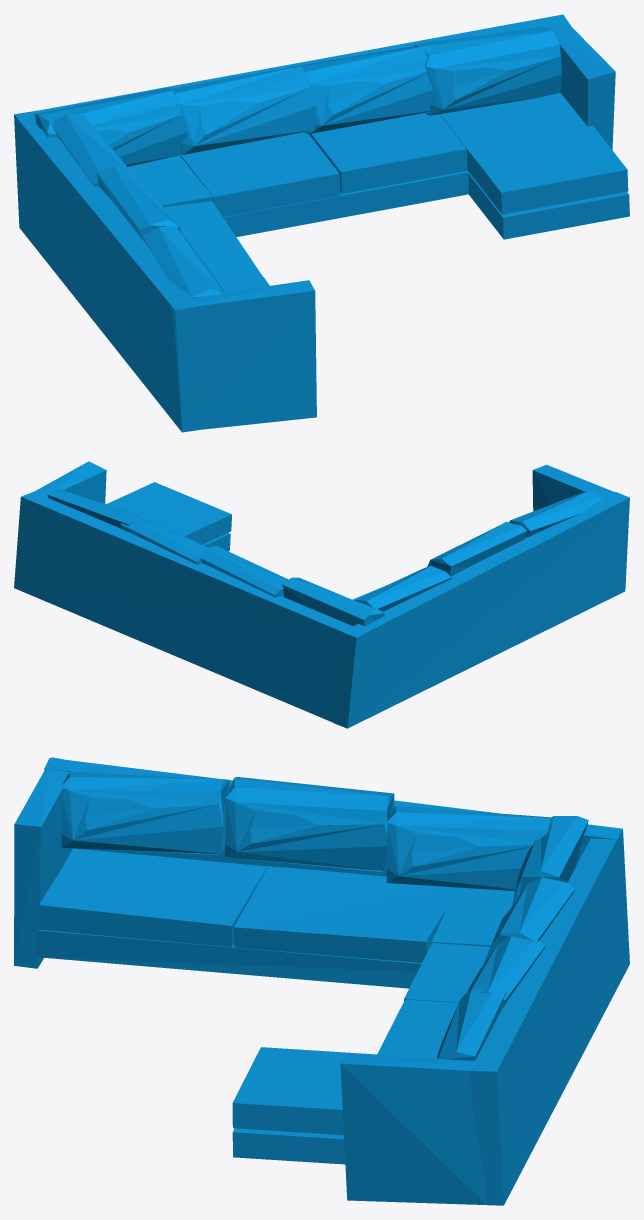
File: Sofa.fbx
The picture shows the model from 3 angles, top to bottom: view 1: azimuth 30°, elevation 25°; view 2: azimuth 150°, elevation 25°; view 3: azimuth 270°, elevation 25°; orthographic projection. The views are drawn at different scales.
Parts seen in each view (by area): view 1: mesh_48918404, mesh_1211063114, mesh_1097500883, mesh_975749564, mesh_1721942015, mesh_1421899832, mesh_1643965277, mesh_552221921, mesh_356552471, mesh_1620106774, mesh_757148259, mesh_780972100 (+6 smaller); view 2: mesh_1168210582, mesh_48918404, mesh_1097500883, mesh_356552471, mesh_1211063114, mesh_548102949, mesh_1721942015, mesh_1658047592, mesh_552221921, mesh_1733011213, mesh_757148259, mesh_975749564; view 3: mesh_1168210582, mesh_757148259, mesh_1974898934, mesh_144543017, mesh_548102949, mesh_1733011213, mesh_1658047592, mesh_689334446, mesh_1097500883, mesh_1211063114, mesh_48918404, mesh_1421899832 (+7 smaller).
Boxes of the visible parts, x1,y1,x2,y2 form: mesh_48918404: (14, 110, 199, 432); mesh_1211063114: (170, 280, 316, 429); mesh_1097500883: (440, 92, 628, 214); mesh_975749564: (414, 26, 561, 115); mesh_1721942015: (170, 66, 316, 154); mesh_1421899832: (180, 133, 340, 216); mesh_1643965277: (309, 113, 467, 193); mesh_552221921: (291, 45, 435, 133); mesh_356552471: (35, 87, 187, 167); mesh_1620106774: (223, 171, 469, 236); mesh_757148259: (550, 25, 615, 149); mesh_780972100: (468, 173, 629, 239); mesh_1168210582: (14, 492, 352, 722); mesh_48918404: (334, 492, 629, 728); mesh_1097500883: (106, 482, 231, 544); mesh_356552471: (282, 577, 384, 626); mesh_1211063114: (532, 464, 629, 568); mesh_548102949: (427, 521, 527, 576); mesh_1721942015: (198, 545, 288, 597); mesh_1658047592: (354, 566, 451, 611); mesh_552221921: (120, 515, 207, 564); mesh_1733011213: (509, 491, 602, 537); mesh_757148259: (34, 461, 106, 503); mesh_975749564: (47, 489, 144, 528); mesh_1168210582: (470, 838, 624, 1205); mesh_757148259: (340, 1053, 486, 1204); mesh_1974898934: (38, 848, 267, 947); mesh_144543017: (233, 866, 455, 962); mesh_548102949: (225, 777, 394, 871); mesh_1733011213: (61, 772, 229, 854); mesh_1658047592: (386, 806, 554, 891); mesh_689334446: (37, 930, 421, 988); mesh_1097500883: (232, 1047, 436, 1135); mesh_1211063114: (14, 757, 72, 968); mesh_48918404: (44, 758, 629, 974); mesh_1421899832: (404, 943, 489, 1002).
Bounding box in the file's own units: 224 × 52.61 × 181.
